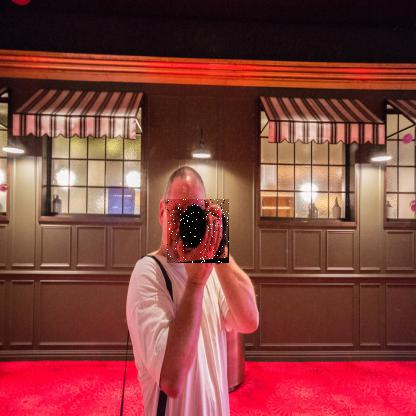Camera: (168, 200, 231, 265)
